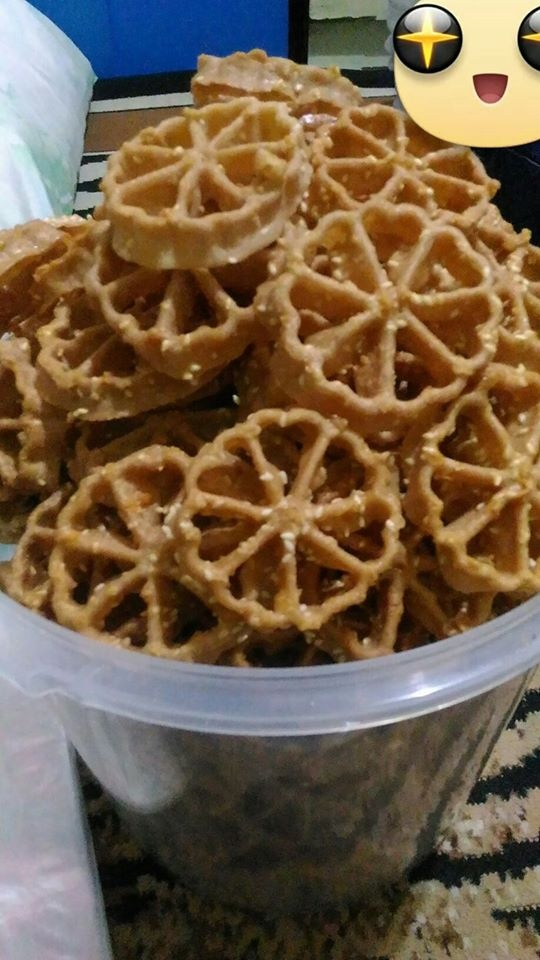kembang_goyang: (176, 418, 409, 636), (266, 198, 504, 407), (122, 83, 311, 263)
